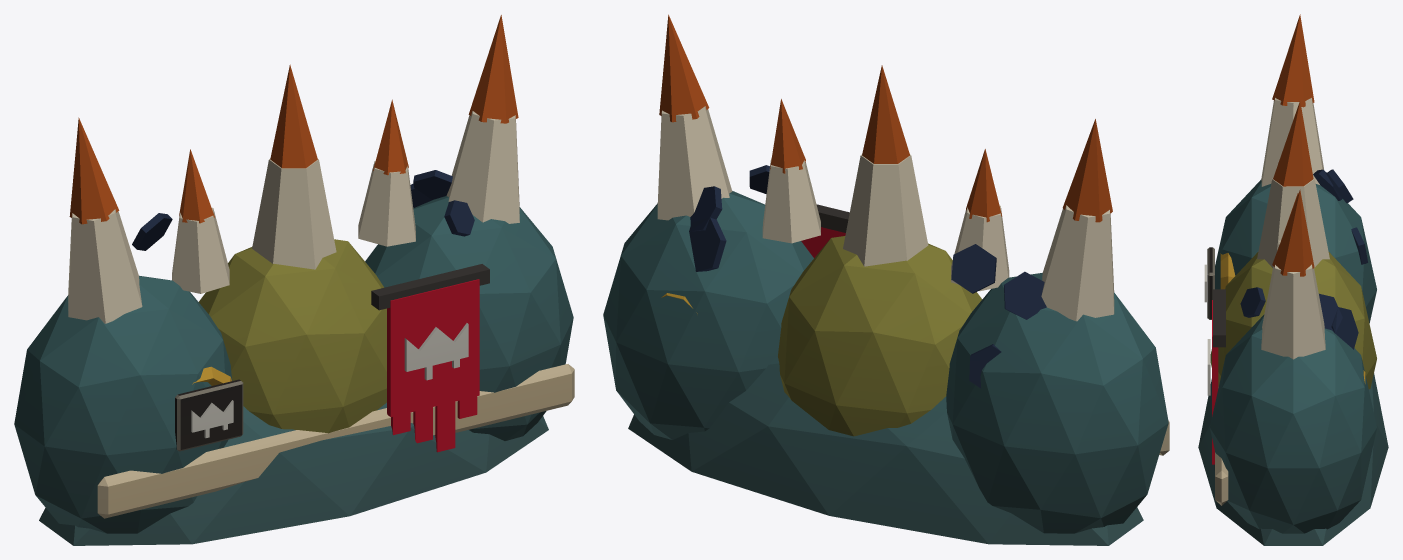
The model's file is rb_wall_chunks.glb.
The picture shows the model from 3 angles, left to right: view 1: azimuth 30°, elevation 25°; view 2: azimuth 150°, elevation 25°; view 3: azimuth 270°, elevation 25°; orthographic projection. The views are drawn at different scales.
Visible parts, largest first — view 1: chunk_3, chunk_2, chunk_0, chunk_1, chunk_5, chunk_4; view 2: chunk_3, chunk_0, chunk_2, chunk_1, chunk_5, chunk_4; view 3: chunk_5, chunk_4, chunk_3, chunk_1, chunk_2, chunk_0.
Part boxes in pixels (x1,y1,x2,y2): chunk_3: (133,64,474,406); chunk_2: (201,341,467,537); chunk_0: (14,376,231,545); chunk_1: (22,117,200,414); chunk_5: (410,15,563,340); chunk_4: (442,283,574,486); chunk_3: (753,65,1040,378); chunk_0: (901,377,1169,545); chunk_2: (755,322,960,528); chunk_1: (960,119,1160,408); chunk_5: (613,14,803,325); chunk_4: (603,278,765,495); chunk_5: (1207,189,1368,432); chunk_4: (1207,379,1380,545); chunk_3: (1204,100,1368,374); chunk_1: (1207,14,1368,277); chunk_2: (1198,270,1388,487); chunk_0: (1204,249,1376,323).
Size of the model in its own units: 2.38 by 1.76 by 0.874.
